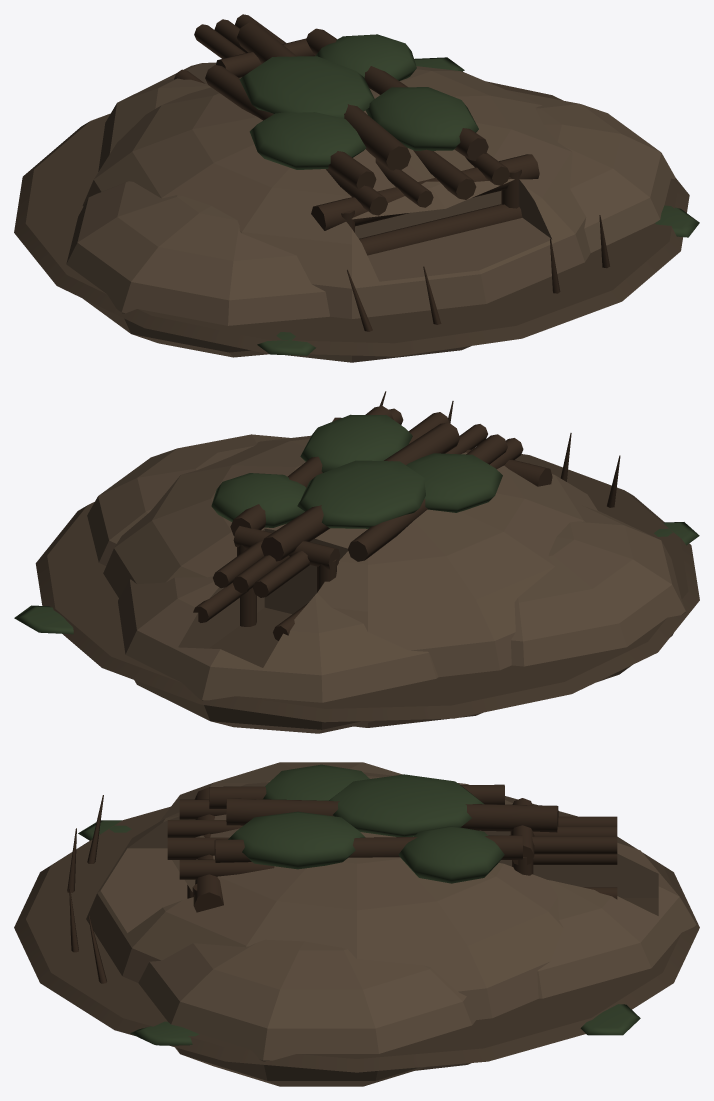
The model's file is bunker-nva.glb.
The picture shows the model from 3 angles, top to bottom: view 1: azimuth 30°, elevation 25°; view 2: azimuth 150°, elevation 25°; view 3: azimuth 270°, elevation 25°; orthographic projection. The views are drawn at different scales.
Visible parts, largest first — view 1: Mesh_BunkerMound, Mesh_GroundBase, Mesh_Foliage1, Mesh_Foliage0, Mesh_Foliage3, Mesh_RoofLog1, Mesh_Foliage2, Mesh_LowerLintel, Mesh_UpperLintel, Mesh_RoofLog2, Mesh_RoofLog0, Mesh_OverhangLog1 (+8 smaller); view 2: Mesh_BunkerMound, Mesh_GroundBase, Mesh_Foliage1, Mesh_Foliage0, Mesh_Foliage3, Mesh_Foliage2, Mesh_RoofLog1, Mesh_RoofLog2, Mesh_RoofLog0, Mesh_RearLintel, Mesh_TunnelCeilingL, Mesh_Grass1 (+7 smaller); view 3: Mesh_BunkerMound, Mesh_GroundBase, Mesh_Foliage1, Mesh_Foliage0, Mesh_Foliage2, Mesh_RoofLog1, Mesh_Foliage3, Mesh_RoofLog0, Mesh_TunnelCeilingR, Mesh_RoofLog2, Mesh_OverhangLog0, Mesh_Grass1 (+9 smaller).
Part boxes in pixels (x1,y1,x2,y2): Mesh_BunkerMound: (66,62,675,362); Mesh_GroundBase: (14,81,689,356); Mesh_Foliage1: (239,56,374,118); Mesh_Foliage0: (365,87,478,150); Mesh_Foliage3: (249,112,366,169); Mesh_RoofLog1: (237,22,411,170); Mesh_Foliage2: (315,34,416,80); Mesh_LowerLintel: (359,204,522,255); Mesh_UpperLintel: (311,154,539,230); Mesh_RoofLog2: (205,65,376,189); Mesh_RoofLog0: (306,28,488,160); Mesh_OverhangLog1: (413,149,476,199); Mesh_BunkerMound: (87,434,685,733); Mesh_GroundBase: (35,454,699,722); Mesh_Foliage1: (297,460,425,528); Mesh_Foliage0: (300,414,412,472); Mesh_Foliage3: (406,453,502,512); Mesh_Foliage2: (211,473,305,527); Mesh_RoofLog1: (261,422,459,561); Mesh_RoofLog2: (348,434,507,561); Mesh_RoofLog0: (230,406,393,535); Mesh_RearLintel: (233,526,340,569); Mesh_TunnelCeilingL: (253,551,309,597); Mesh_Grass1: (14,605,73,634); Mesh_BunkerMound: (86,762,696,1086); Mesh_GroundBase: (14,796,699,1072); Mesh_Foliage1: (329,774,484,836); Mesh_Foliage0: (228,811,365,869); Mesh_Foliage2: (398,826,504,883); Mesh_RoofLog1: (226,798,558,832); Mesh_Foliage3: (263,764,369,800); Mesh_RoofLog0: (214,835,522,862); Mesh_TunnelCeilingR: (532,836,617,854); Mesh_RoofLog2: (209,784,504,808); Mesh_OverhangLog0: (179,859,274,879); Mesh_Grass1: (580,1004,640,1035).
Bounding box in the file's own units: 5.8 × 2.1 × 5.8.
